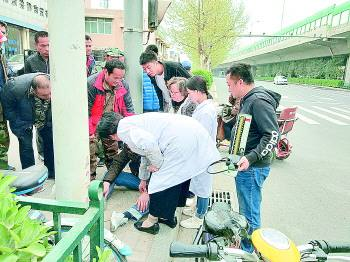10+: (1, 19, 287, 252)
down: (86, 137, 152, 232)
